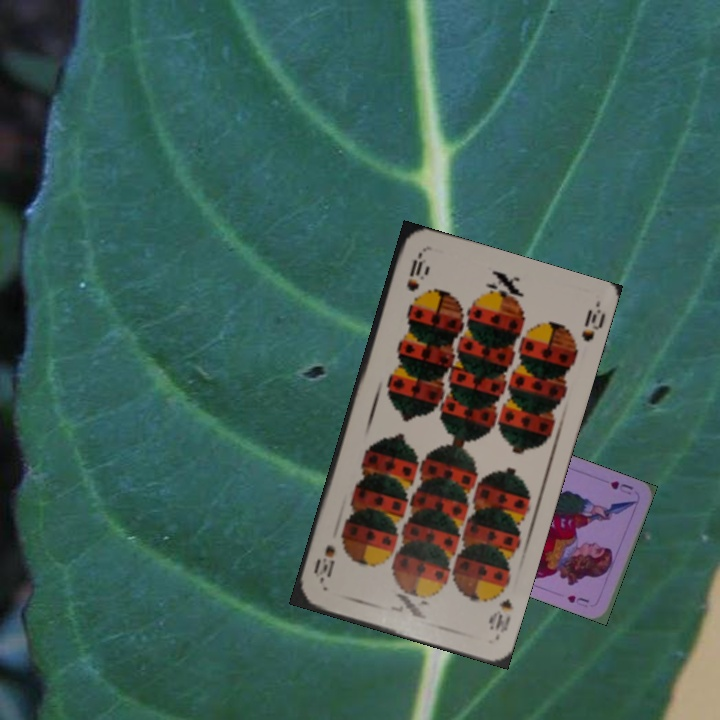HU: (606, 477, 636, 497)
S10: (485, 594, 516, 636), (402, 250, 426, 294)
